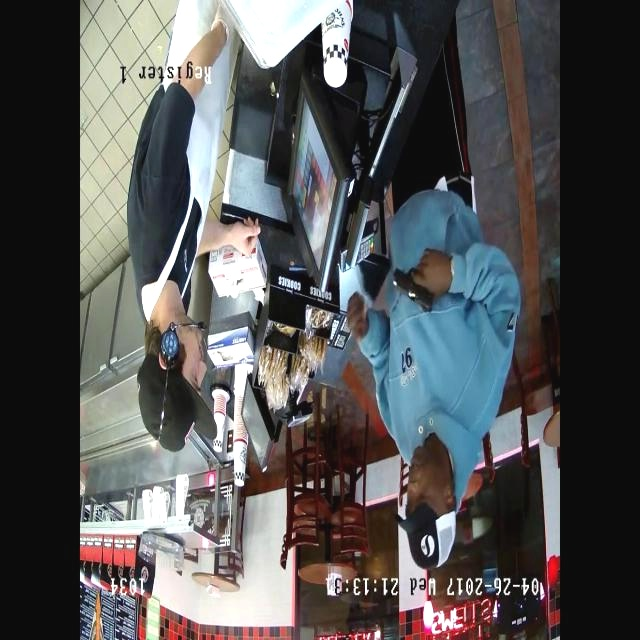gun: (383, 254, 451, 326)
